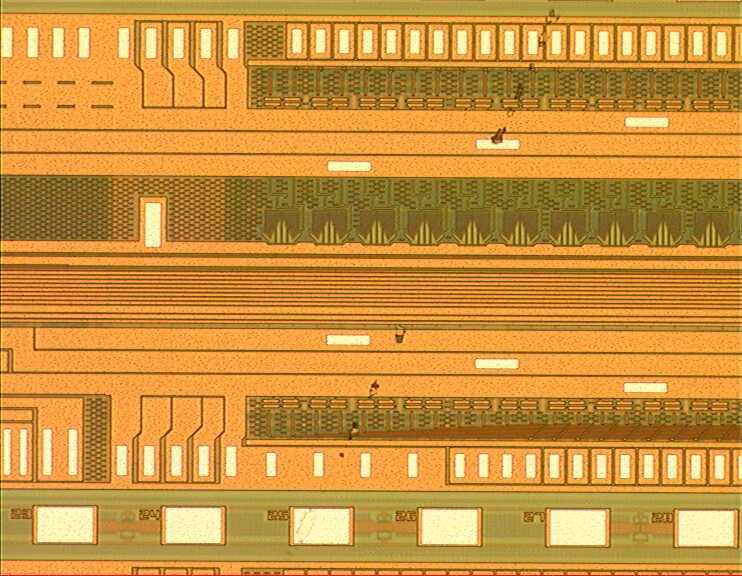SCRATCH: (269, 1, 570, 576)
